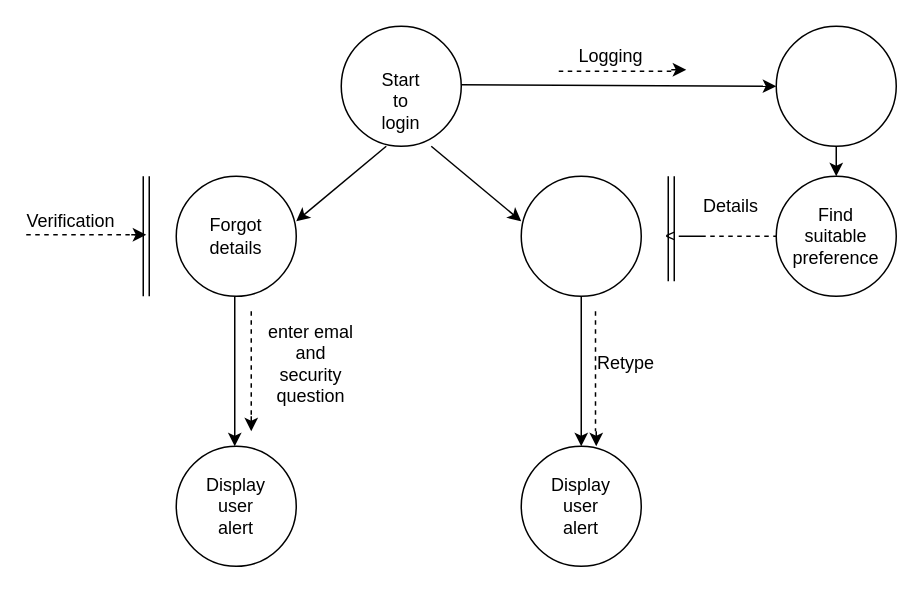
Image size: 923x593. Some labels were removed from this diagram. Here are the shapes that lost their labels. From the top down, the centre of each, then its label:
pixel 835 85: Logged in
pixel 580 235: Incorrect detail
